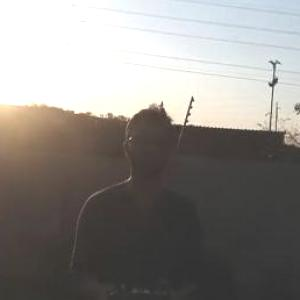follow: (65, 102, 222, 299)
